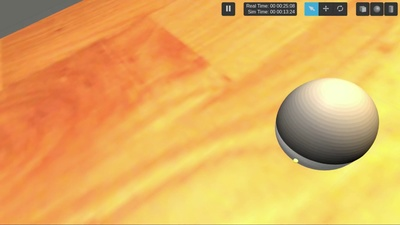mira_robot: (275, 77, 379, 171)
